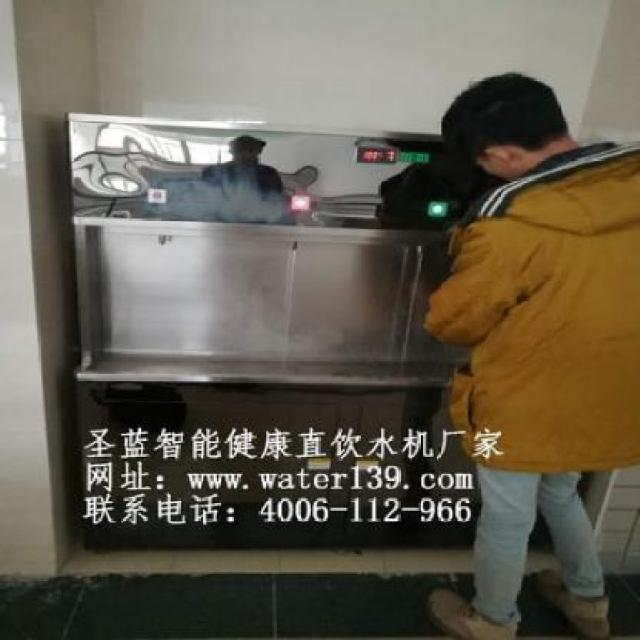cooler: (62, 108, 596, 548)
